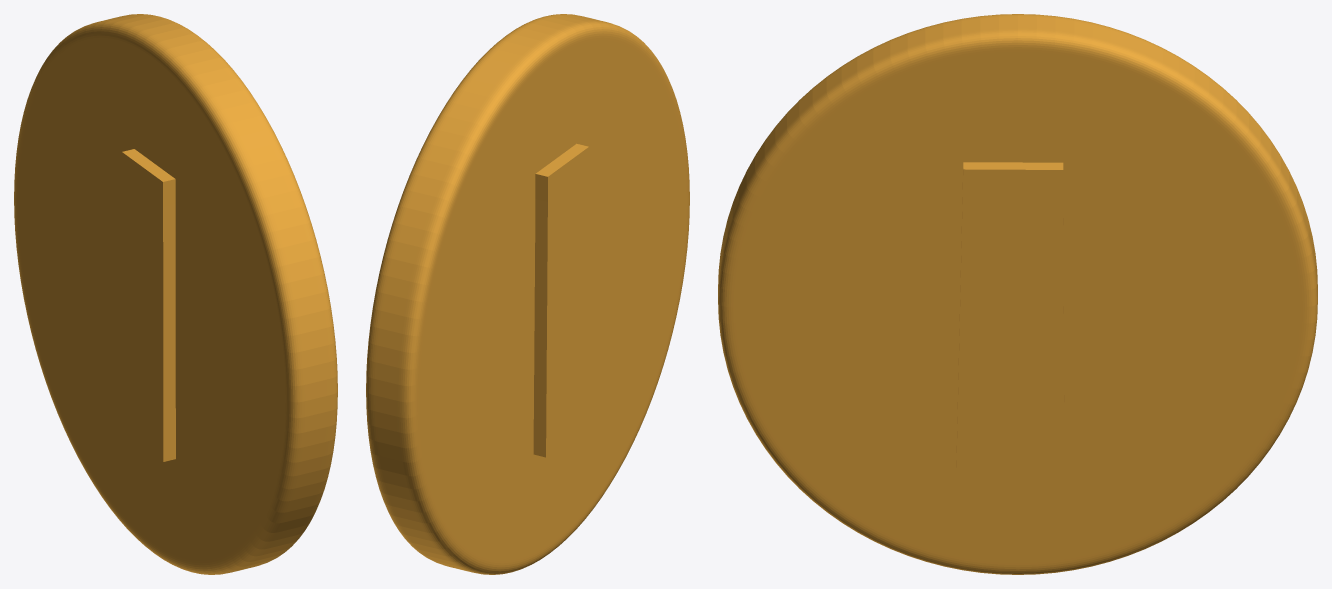
Rendered from BlenderCoin.gltf.
3 renders of one model, left to right at view 1: azimuth 30°, elevation 25°; view 2: azimuth 150°, elevation 25°; view 3: azimuth 270°, elevation 25°, orthographic. The views are drawn at different scales.
Visible parts, largest first — view 1: Circle; view 2: Circle; view 3: Circle.
Boxes of the visible parts, x1=… form: Circle: x1=14, y1=14, x2=337, y2=574; Circle: x1=366, y1=14, x2=689, y2=574; Circle: x1=718, y1=14, x2=1317, y2=574.
Size of the model in its own units: 0.3085 by 2 by 2.
